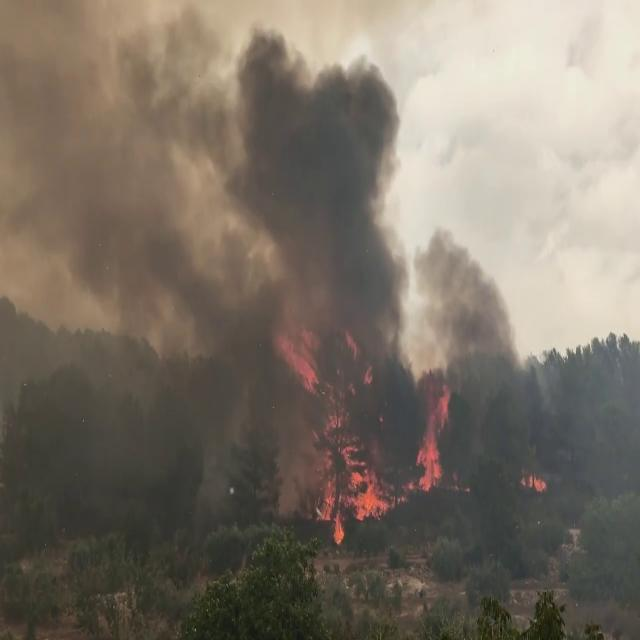Fire: (317, 462, 389, 542), (414, 388, 452, 496)
Smoke: (1, 2, 420, 502)
